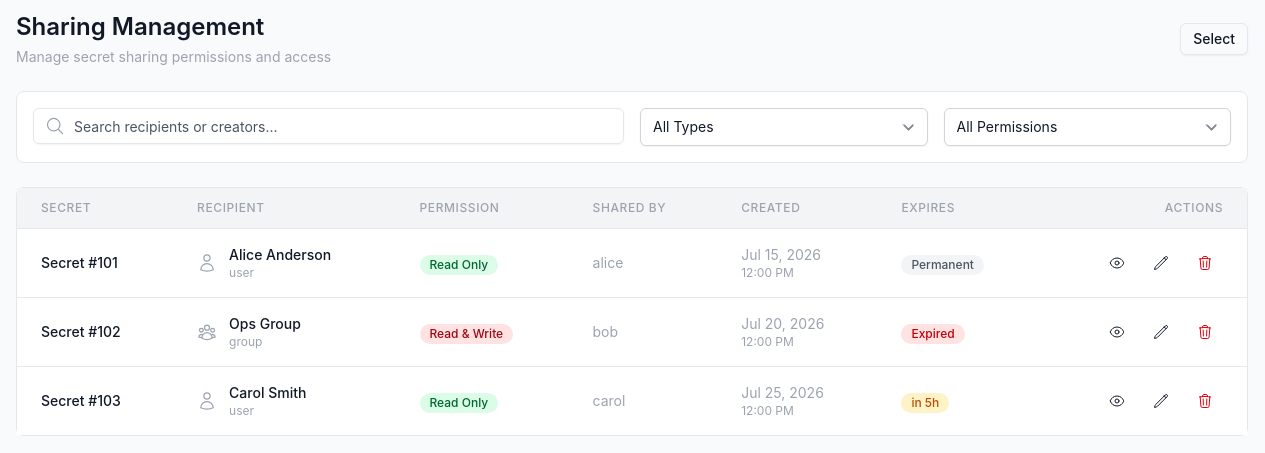
Test: SharingManagementPage — search / filters › matches search against createdBy as well as recipientName
Step 1. Type "bob" into the field with placeholder "Search recipients or creators..." → x=328, y=126, box [33, 108, 624, 144]
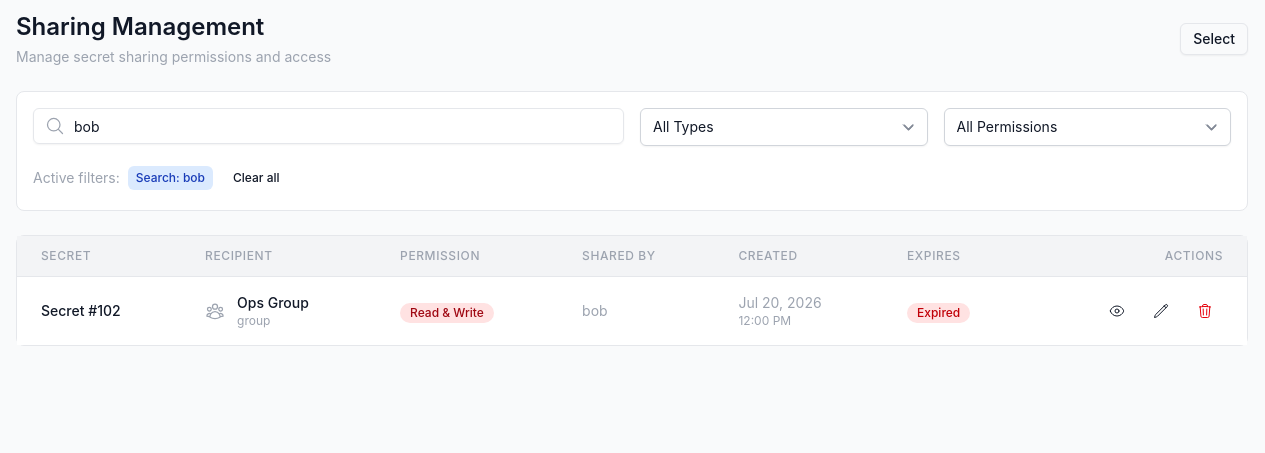
Expected: the text "Ops Group" is shown, [237, 293, 309, 313]
Now the text "Search: bob" is shown, box [128, 166, 213, 190]
Now the text "Alice Anderson" is gone
